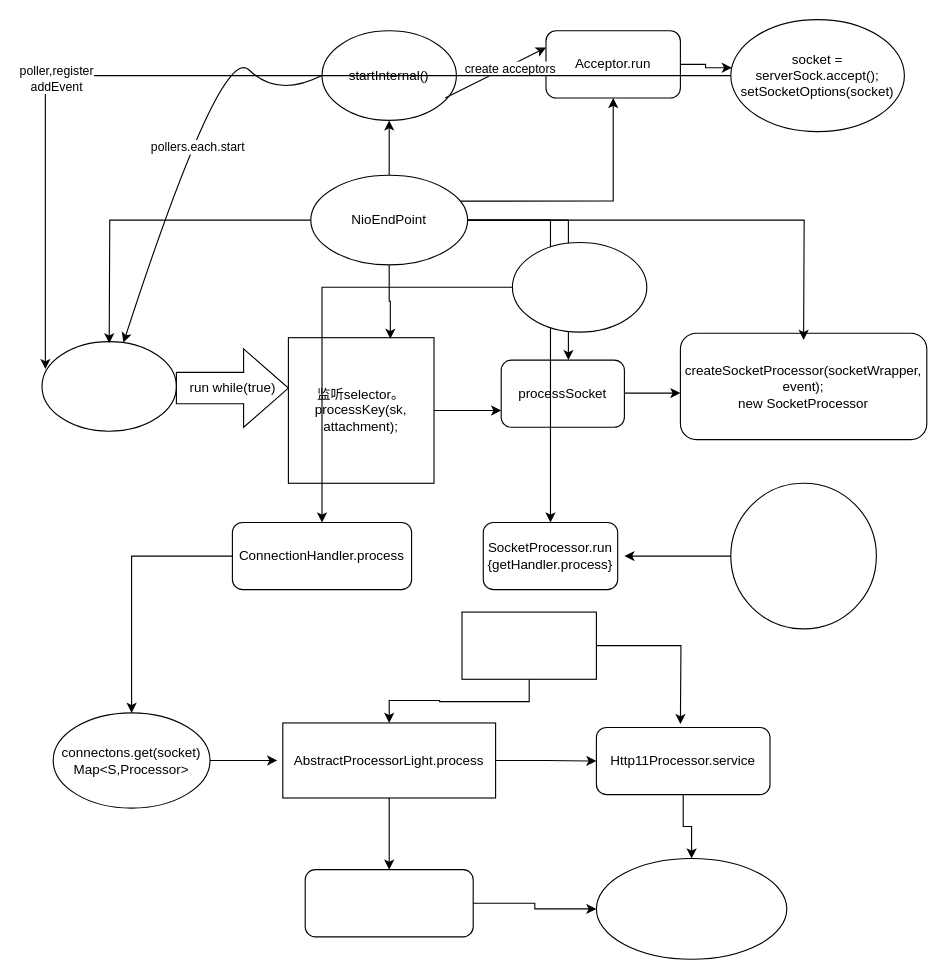
Some shapes in this 946 by 979 pixel diagram are drawn without their labels. The shapes that lost their labels are listed below. From the top down, each one's centre as x and y in pixels, then its label:
the point at 579,286: AbstractEndpoint
the point at 108,385: NioEndpoint.Poller
the point at 803,555: executor.execute(sc);
the point at 528,645: process
the point at 388,903: AbstractProcessor +Adapter
the point at 691,908: getAdapter().service(request, response);
